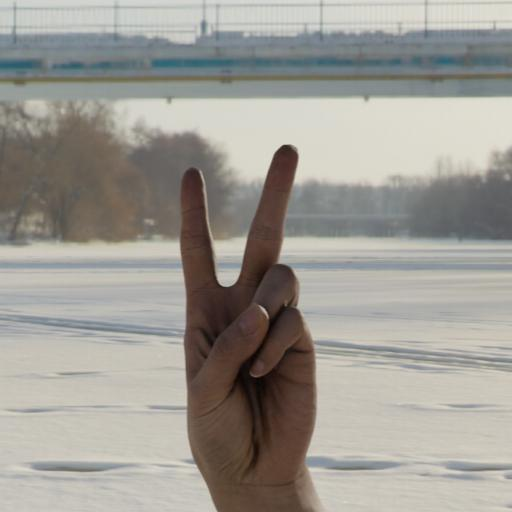V: (152, 132, 338, 512)
